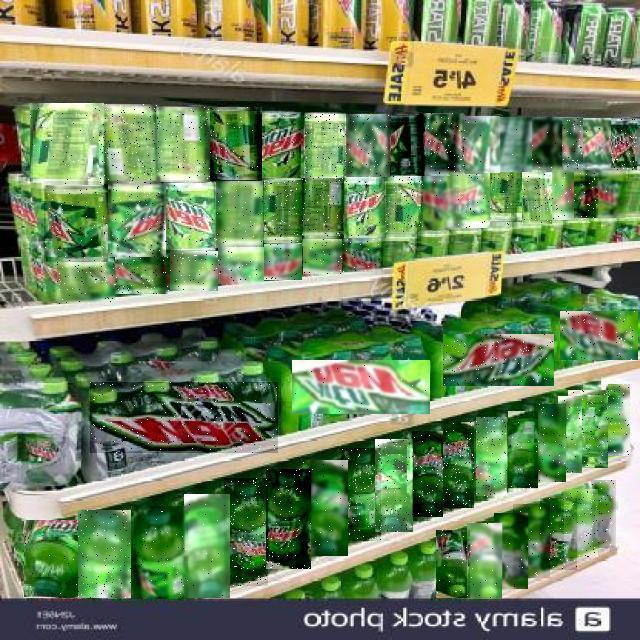Drinks: (90, 382, 278, 453), (293, 360, 431, 414), (31, 104, 105, 186), (443, 334, 554, 386), (44, 183, 108, 262), (135, 506, 189, 599), (99, 105, 159, 185), (184, 494, 230, 598), (224, 479, 268, 587), (78, 510, 131, 598), (266, 469, 311, 569), (303, 461, 348, 557), (108, 183, 166, 257), (25, 520, 79, 598), (156, 107, 210, 182), (209, 107, 262, 181), (560, 311, 638, 360), (341, 448, 381, 541), (164, 182, 216, 250), (375, 439, 413, 532), (215, 180, 263, 248), (257, 113, 305, 179), (569, 390, 609, 468), (420, 114, 466, 176), (345, 114, 390, 177), (513, 504, 550, 578), (305, 113, 347, 178), (443, 423, 474, 509), (412, 431, 443, 517), (540, 498, 577, 570), (467, 523, 502, 599), (345, 176, 387, 238), (494, 513, 528, 589), (302, 178, 344, 239), (534, 404, 566, 482), (476, 418, 507, 498), (263, 180, 302, 243), (388, 115, 428, 176), (57, 262, 115, 304), (508, 412, 538, 492), (564, 489, 598, 557), (436, 530, 470, 598), (491, 117, 533, 172), (385, 176, 423, 233), (462, 116, 500, 173), (450, 174, 490, 228), (523, 118, 563, 172), (484, 172, 522, 226), (420, 176, 458, 230), (514, 171, 552, 224), (588, 168, 628, 218), (116, 257, 170, 294), (171, 251, 219, 291), (601, 118, 637, 170), (558, 396, 582, 473), (592, 481, 618, 549), (540, 169, 574, 220), (218, 247, 264, 284), (566, 168, 600, 218), (552, 118, 583, 170), (608, 384, 630, 456), (583, 118, 611, 170), (303, 240, 342, 276), (264, 245, 302, 281), (343, 239, 383, 273)
